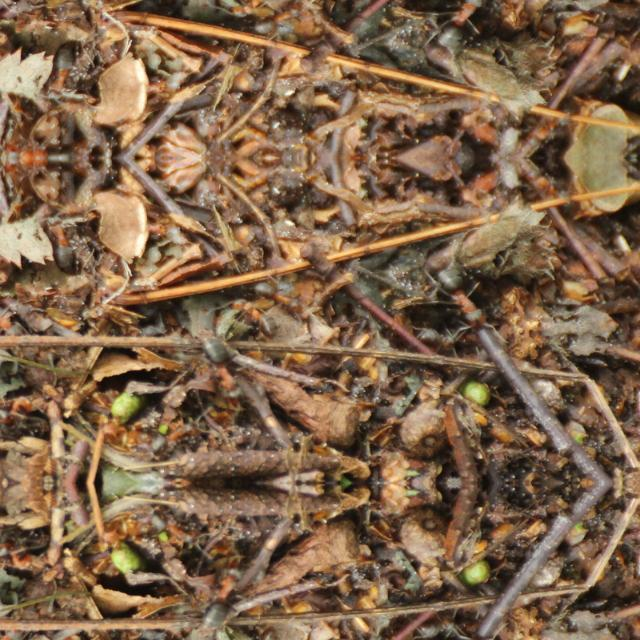Formica: (425, 258, 529, 364), (425, 0, 529, 56), (192, 331, 258, 414), (192, 552, 258, 634), (31, 210, 97, 274), (31, 40, 97, 104), (425, 600, 529, 640), (407, 310, 477, 364), (246, 269, 318, 321), (246, 0, 318, 44), (407, 600, 477, 640), (226, 297, 286, 343), (224, 622, 286, 640), (223, 0, 284, 16)
